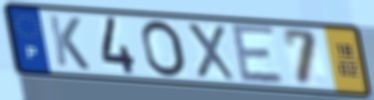4: (100, 15, 138, 76)
7: (281, 27, 324, 87)
E: (228, 22, 287, 86)
K: (46, 13, 93, 72)
O: (139, 18, 190, 80)
X: (183, 21, 238, 83)
